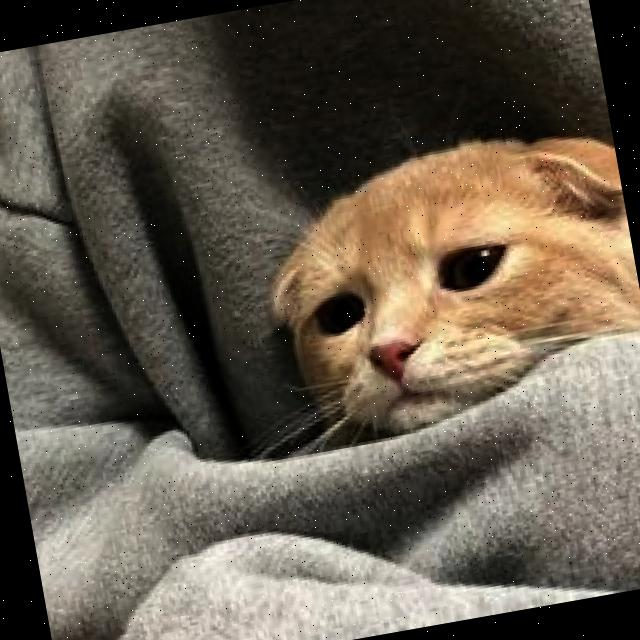Sad: (270, 212, 571, 458)
